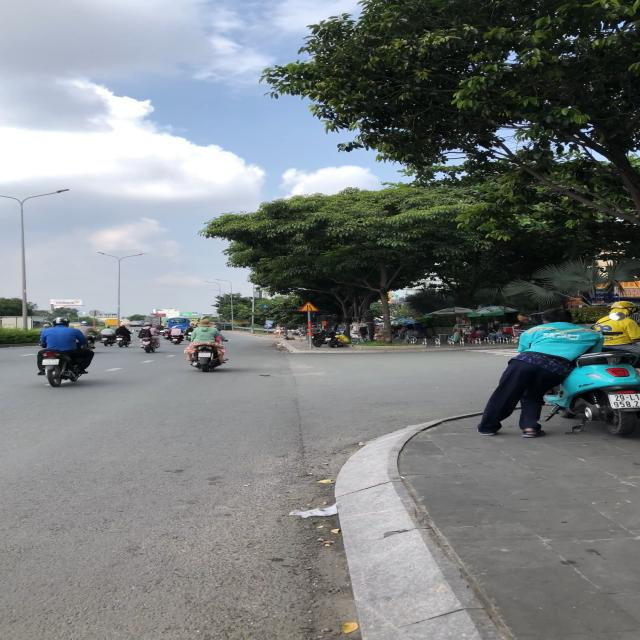Bien bao duong bi thu hep: (300, 301, 320, 312)
